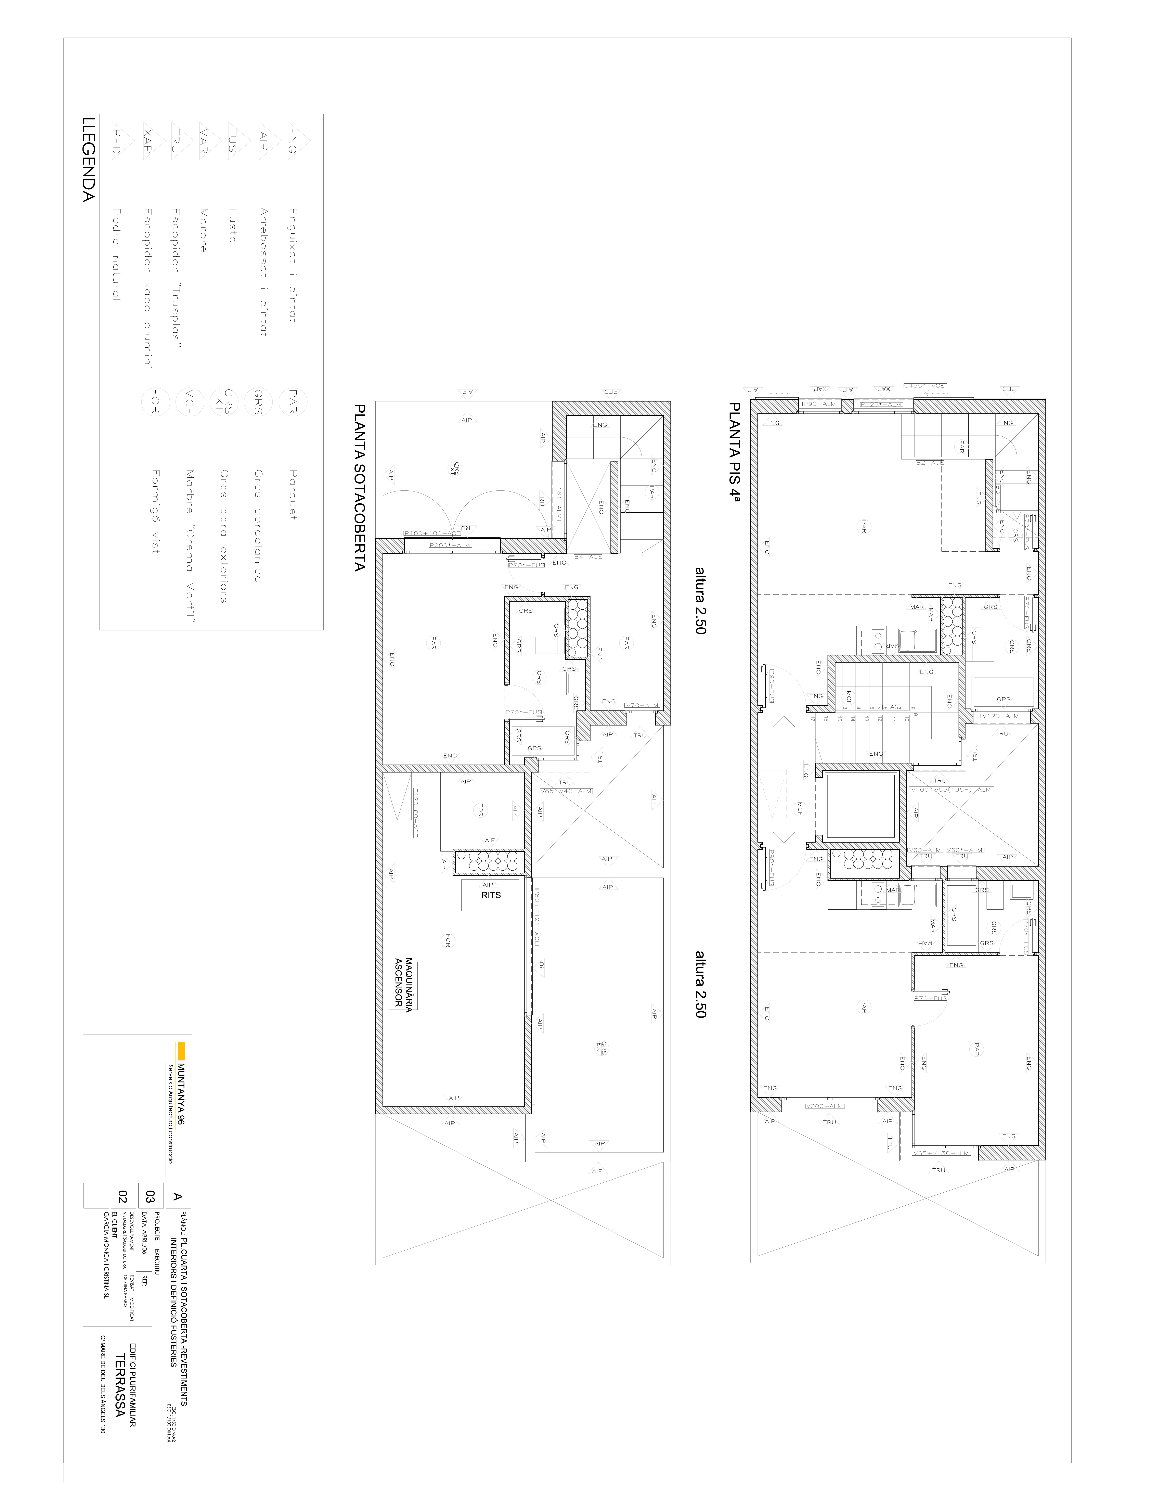door: (996, 918, 1033, 956)
